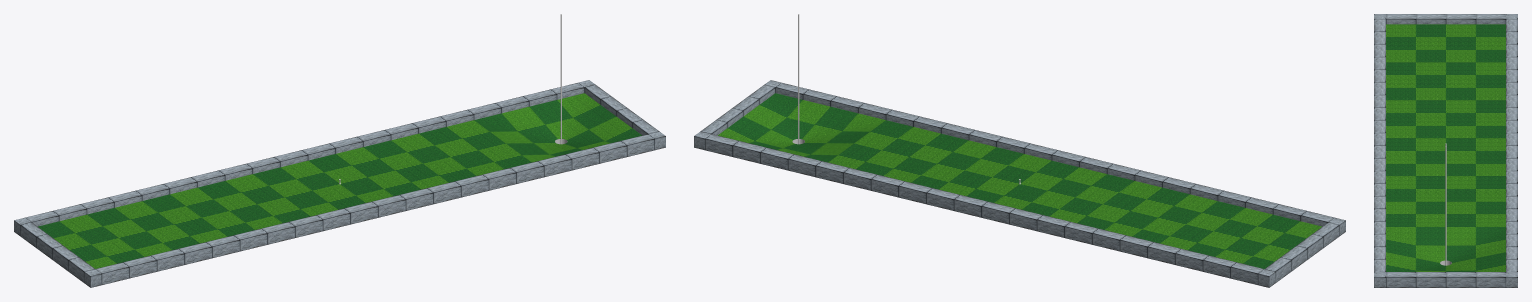
The picture shows the model from 3 angles, left to right: view 1: azimuth 30°, elevation 25°; view 2: azimuth 150°, elevation 25°; view 3: azimuth 270°, elevation 25°; orthographic projection. The views are drawn at different scales.
Visible parts, largest first — view 1: ground, barrier029, barrier026, barrier032, barrier035, barrier038, barrier041, barrier023, barrier022, barrier025, barrier030, barrier031 (+9 smaller); view 2: ground, barrier008, barrier005, barrier011, barrier014, barrier017, barrier020, barrier002, barrier001, barrier004, barrier009, barrier010 (+9 smaller); view 3: ground, barrier047, barrier048, barrier049, barrier050, barrier043, barrier044, barrier045, barrier046, flagstick, Square003, Square004 (+40 smaller).
Part boxes in pixels (<box>): ground: <box>38,93,641,268</box>; barrier029: <box>427,181,461,203</box>; barrier026: <box>510,161,544,183</box>; barrier032: <box>345,201,378,224</box>; barrier035: <box>261,222,295,244</box>; barrier038: <box>178,242,212,264</box>; barrier041: <box>96,262,129,284</box>; barrier023: <box>593,141,627,163</box>; barrier022: <box>621,134,654,156</box>; barrier025: <box>538,154,571,177</box>; barrier030: <box>400,188,433,210</box>; barrier031: <box>372,195,405,217</box>; ground: <box>718,93,1321,268</box>; barrier008: <box>898,181,932,203</box>; barrier005: <box>815,161,849,183</box>; barrier011: <box>981,201,1014,224</box>; barrier014: <box>1064,222,1098,244</box>; barrier017: <box>1147,242,1181,264</box>; barrier020: <box>1230,262,1263,284</box>; barrier002: <box>732,141,766,163</box>; barrier001: <box>705,134,738,156</box>; barrier004: <box>788,154,821,177</box>; barrier009: <box>926,188,959,210</box>; barrier010: <box>954,195,987,217</box>; ground: <box>1386,24,1505,271</box>; barrier047: <box>1386,272,1415,287</box>; barrier048: <box>1416,272,1445,287</box>; barrier049: <box>1446,272,1475,287</box>; barrier050: <box>1476,272,1505,287</box>; barrier043: <box>1386,14,1415,24</box>; barrier044: <box>1416,14,1445,24</box>; barrier045: <box>1446,14,1475,24</box>; barrier046: <box>1476,14,1505,24</box>; flagstick: <box>1445,143,1446,265</box>; Square003: <box>1506,272,1517,287</box>; Square004: <box>1374,272,1385,287</box>.
Size of the model in its own units: 104 by 23 by 24.
